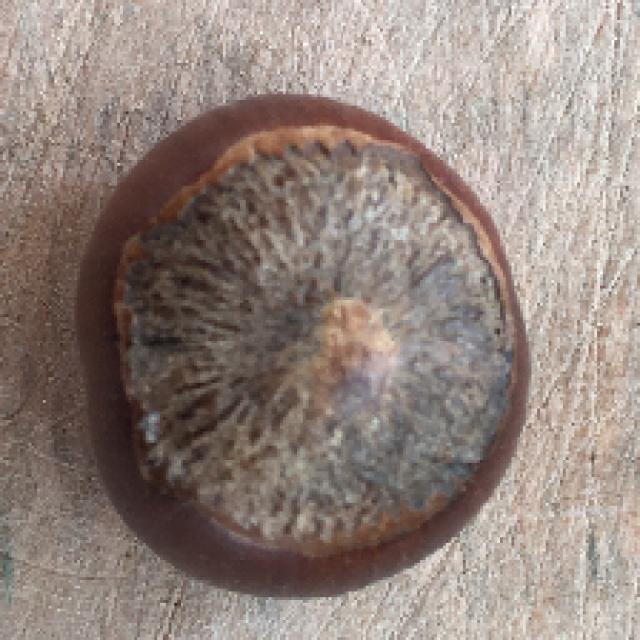damagedHazelnut: (67, 66, 532, 570)
